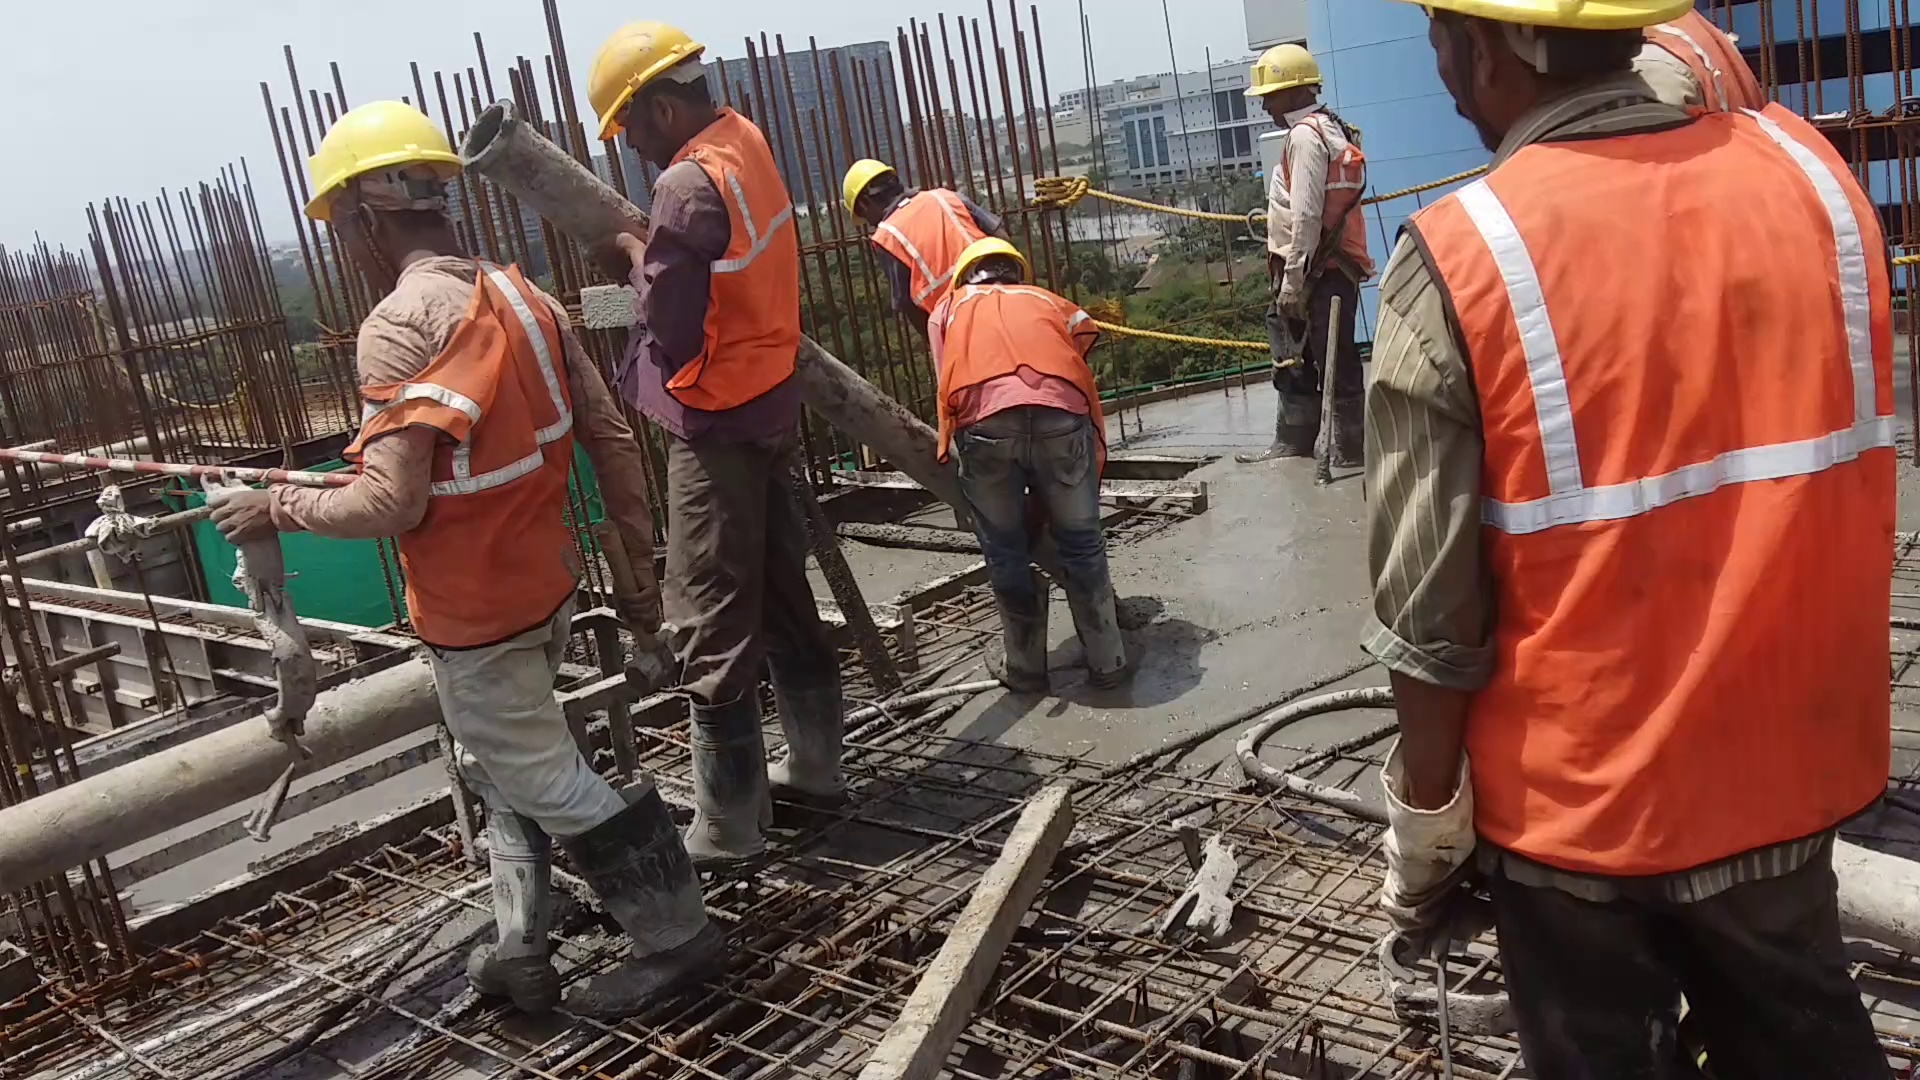SAFE: (301, 98, 572, 644), (584, 26, 800, 421), (932, 240, 1100, 426), (1244, 47, 1365, 276), (837, 154, 1011, 244)
